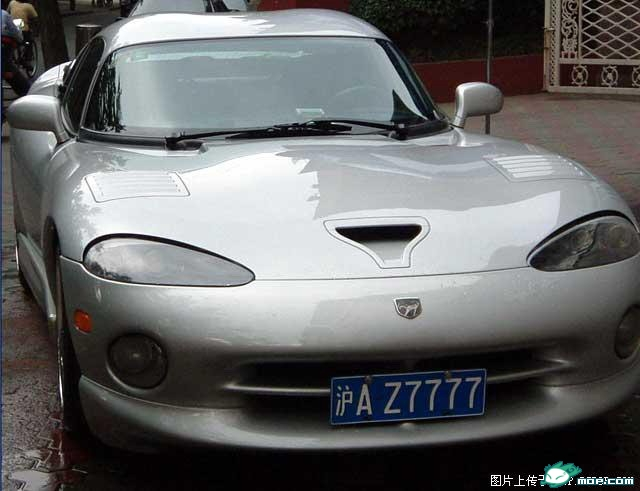plate_number: (331, 372, 487, 421)
